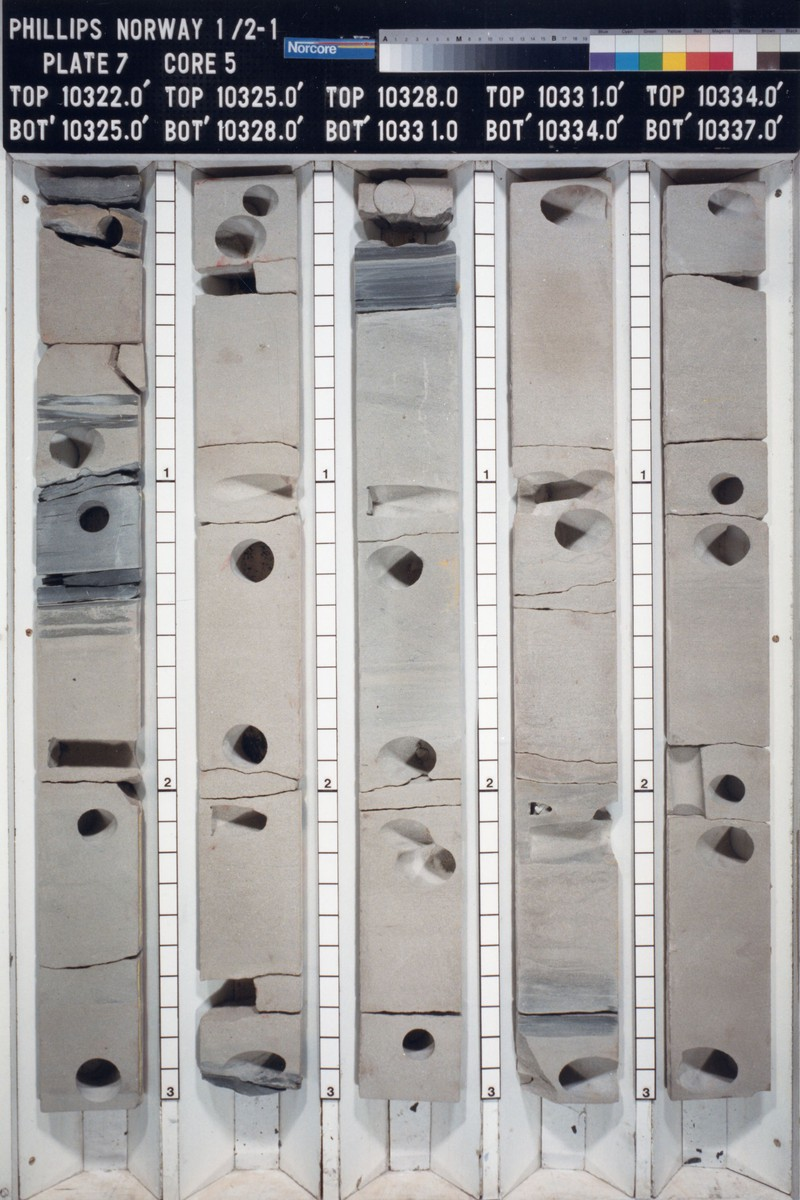core: (508, 180, 625, 1110), (31, 162, 145, 1116), (191, 172, 308, 1100), (351, 174, 465, 1103), (661, 179, 773, 1104)
